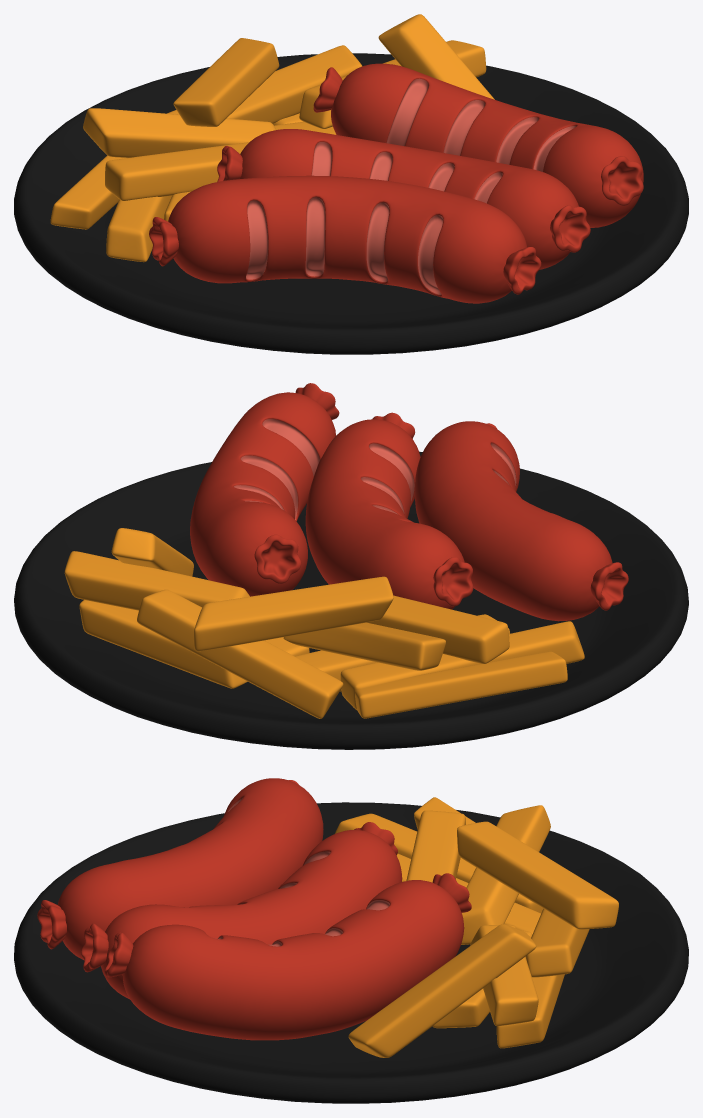
The picture shows the model from 3 angles, top to bottom: view 1: azimuth 30°, elevation 25°; view 2: azimuth 150°, elevation 25°; view 3: azimuth 270°, elevation 25°; orthographic projection.
Visible parts, largest first — view 1: Circle.105, Cube.065, Cube.067, Cube.066, Cube.071, Cube.079, Cube.072, Cube.075, Cube.077, Cube.069, Cube.068, Circle.108 (+3 smaller); view 2: Circle.105, Cube.065, Cube.067, Cube.066, Cube.079, Cube.075, Cube.068, Cube.076, Cube.072, Cube.071, Cube.073, Cube.069 (+5 smaller); view 3: Circle.105, Cube.067, Cube.065, Cube.066, Cube.077, Cube.079, Cube.071, Cube.072, Cube.076, Cube.075, Cube.073, Cube.069 (+6 smaller).
Part boxes in pixels (left/top/right/bottom): Circle.105: left=14, top=53, right=688, bottom=354; Cube.065: left=168, top=175, right=526, bottom=303; Cube.067: left=331, top=63, right=643, bottom=227; Cube.066: left=240, top=129, right=578, bottom=269; Cube.071: left=83, top=108, right=276, bottom=157; Cube.079: left=173, top=38, right=279, bottom=126; Cube.072: left=105, top=142, right=249, bottom=200; Cube.075: left=167, top=45, right=362, bottom=123; Cube.077: left=378, top=14, right=494, bottom=99; Cube.069: left=106, top=195, right=172, bottom=262; Cube.068: left=50, top=155, right=126, bottom=229; Circle.108: left=313, top=67, right=643, bottom=205; Circle.105: left=14, top=451, right=688, bottom=749; Cube.065: left=415, top=421, right=612, bottom=621; Cube.067: left=190, top=392, right=335, bottom=596; Cube.066: left=305, top=419, right=464, bottom=609; Cube.079: left=193, top=576, right=393, bottom=651; Cube.075: left=137, top=589, right=343, bottom=718; Cube.068: left=355, top=651, right=567, bottom=718; Cube.076: left=64, top=551, right=249, bottom=610; Cube.072: left=367, top=595, right=509, bottom=663; Cube.071: left=283, top=622, right=445, bottom=670; Cube.073: left=79, top=600, right=247, bottom=688; Cube.069: left=340, top=621, right=584, bottom=710; Circle.105: left=14, top=802, right=688, bottom=1103; Cube.067: left=122, top=880, right=464, bottom=1040; Cube.065: left=57, top=778, right=323, bottom=959; Cube.066: left=101, top=830, right=402, bottom=999; Cube.077: left=348, top=924, right=536, bottom=1057; Cube.079: left=457, top=821, right=618, bottom=929; Cube.071: left=461, top=805, right=550, bottom=944; Cube.072: left=406, top=810, right=465, bottom=882; Cube.076: left=470, top=925, right=538, bottom=1025; Cube.075: left=526, top=908, right=589, bottom=977; Cube.073: left=496, top=956, right=564, bottom=1048; Cube.069: left=335, top=813, right=543, bottom=913.
Size of the model in its own units: 3.29 by 0.7482 by 3.29.
